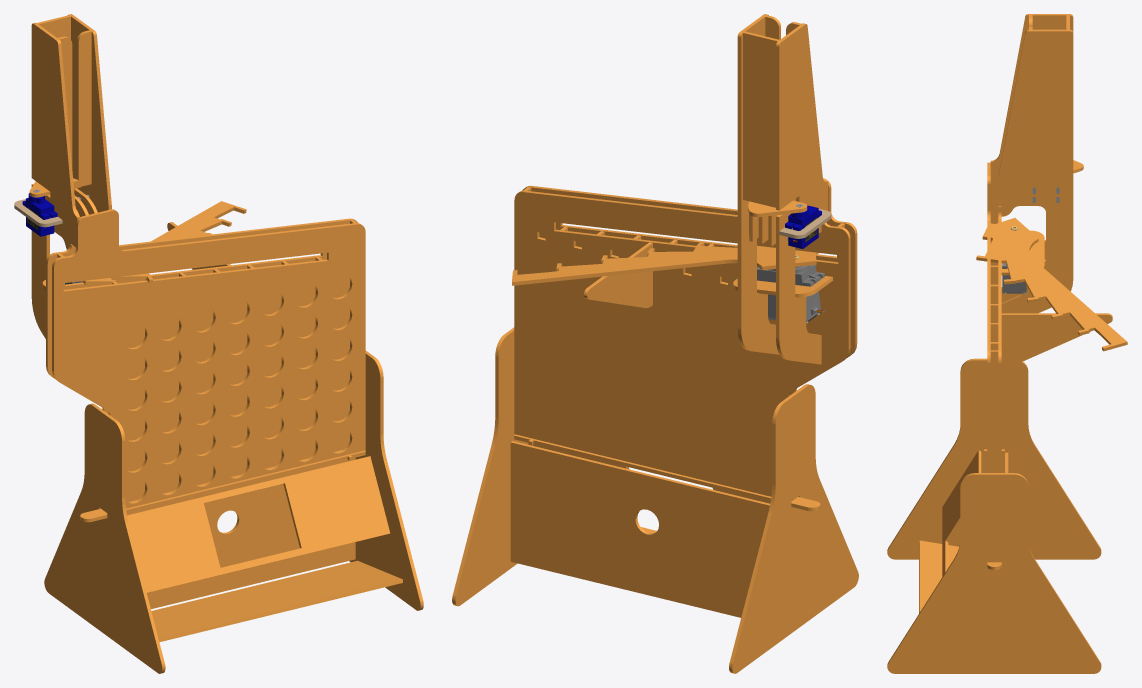
The model's file is Connect4Robot.glb.
3 views of the same model, side by side, from view 1: azimuth 30°, elevation 25°; view 2: azimuth 150°, elevation 25°; view 3: azimuth 270°, elevation 25° (orthographic). The views are drawn at different scales.
Parts seen in each view (by area): view 1: Body1, Body1.002, Body1.013, Body10.003, Body1.005, Body1.018, Body2.002, Body10.004, Body1.008, Body1.014, Body1.004, Body1.007 (+1 smaller); view 2: Body1.002, Body1.005, Body10.003, Body1.018, Body10.004, Body1.016, Body1.008, Body1.004, Body1, Body1.012, Body1.007, Body1.006 (+2 smaller); view 3: Body10.004, Body10.003, Body1.008, Body1.004, Body1.012, Body1.018, Body2.002, Body1.013, Body1, Body1.002, Body1.024, Body1.010.
Boxes of the visible parts, x1=… form: Body1: x1=52, y1=209, x2=365, y2=508; Body1.002: x1=46, y1=218, x2=357, y2=501; Body1.013: x1=111, y1=456, x2=390, y2=592; Body10.003: x1=44, y1=403, x2=165, y2=673; Body1.005: x1=95, y1=457, x2=355, y2=615; Body1.018: x1=31, y1=22, x2=80, y2=338; Body2.002: x1=103, y1=560, x2=402, y2=643; Body10.004: x1=349, y1=350, x2=423, y2=610; Body1.008: x1=68, y1=14, x2=111, y2=212; Body1.014: x1=54, y1=30, x2=91, y2=188; Body1.004: x1=81, y1=201, x2=246, y2=284; Body1.007: x1=80, y1=450, x2=365, y2=522; Body1.002: x1=514, y1=190, x2=850, y2=496; Body1.005: x1=510, y1=441, x2=789, y2=621; Body10.003: x1=729, y1=384, x2=858, y2=673; Body1.018: x1=776, y1=23, x2=828, y2=364; Body10.004: x1=452, y1=327, x2=532, y2=606; Body1.016: x1=743, y1=31, x2=783, y2=207; Body1.008: x1=737, y1=14, x2=779, y2=354; Body1.004: x1=512, y1=242, x2=819, y2=285; Body1: x1=522, y1=178, x2=857, y2=479; Body1.012: x1=584, y1=242, x2=652, y2=308; Body1.007: x1=514, y1=434, x2=820, y2=511; Body1.006: x1=757, y1=265, x2=824, y2=321; Body10.004: x1=887, y1=473, x2=1101, y2=673; Body10.003: x1=887, y1=358, x2=1101, y2=559; Body1.008: x1=998, y1=29, x2=1073, y2=313; Body1.004: x1=976, y1=218, x2=1127, y2=351; Body1.012: x1=1001, y1=313, x2=1112, y2=367; Body1.018: x1=990, y1=14, x2=1073, y2=302; Body2.002: x1=919, y1=540, x2=1001, y2=669; Body1.013: x1=942, y1=450, x2=981, y2=617; Body1: x1=987, y1=162, x2=990, y2=548; Body1.002: x1=998, y1=206, x2=1001, y2=548; Body1.024: x1=990, y1=350, x2=998, y2=472; Body1.010: x1=1001, y1=230, x2=1044, y2=275.
Bounding box in the file's own units: 10.94 × 19 × 7.78.
